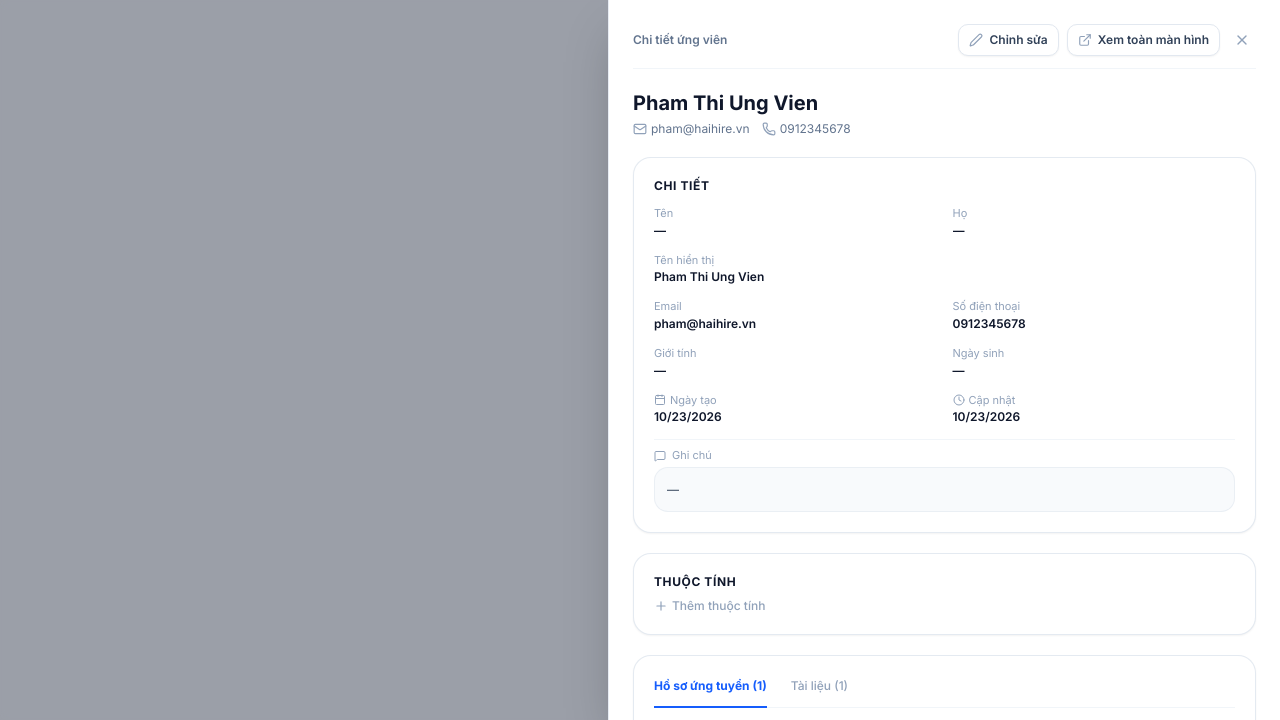
Scenario: CandidateDrawer Component › previews a document and returns back to the document list
What coordinates should you click on to do the following:
click the button "Tài liệu (1)"
I would click on:
 (819, 692)
Its box is top-left (791, 676), bottom-right (848, 708).
(page scrolled)
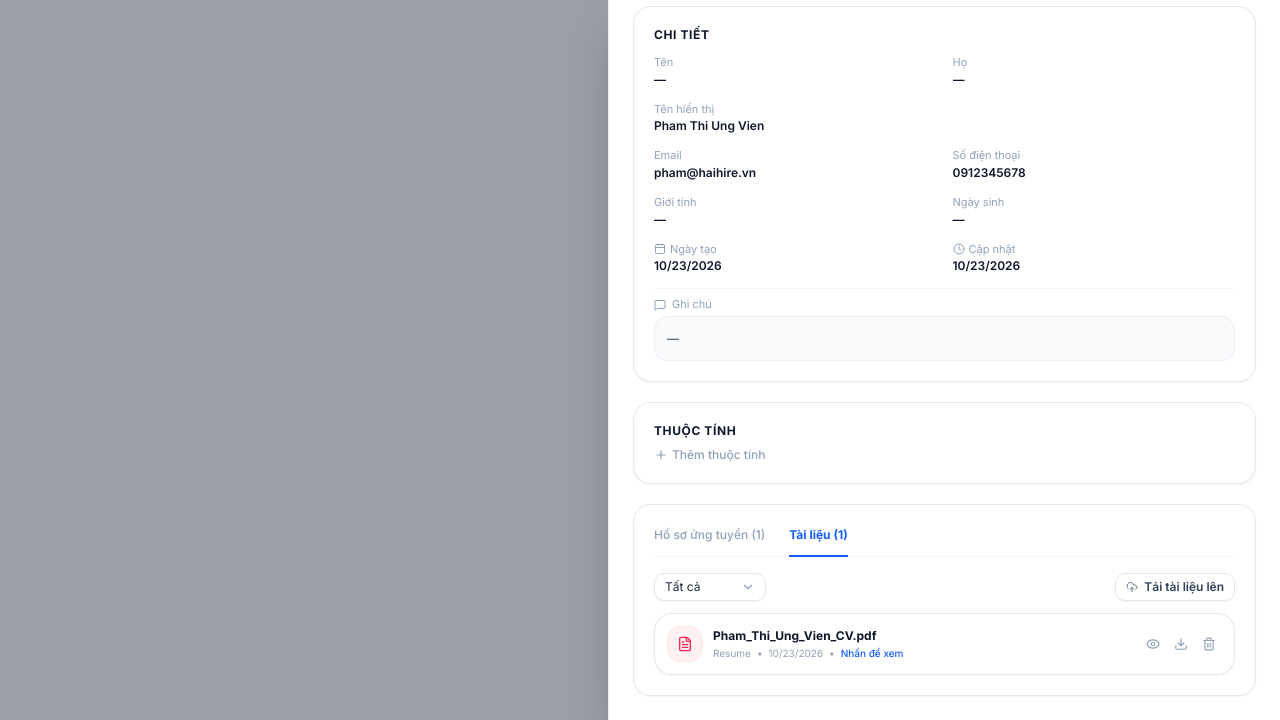
What coordinates should you click on to do the following:
click the button "Nhấn để xem"
I would click on:
 (872, 653)
Its box is top-left (841, 646), bottom-right (904, 661).
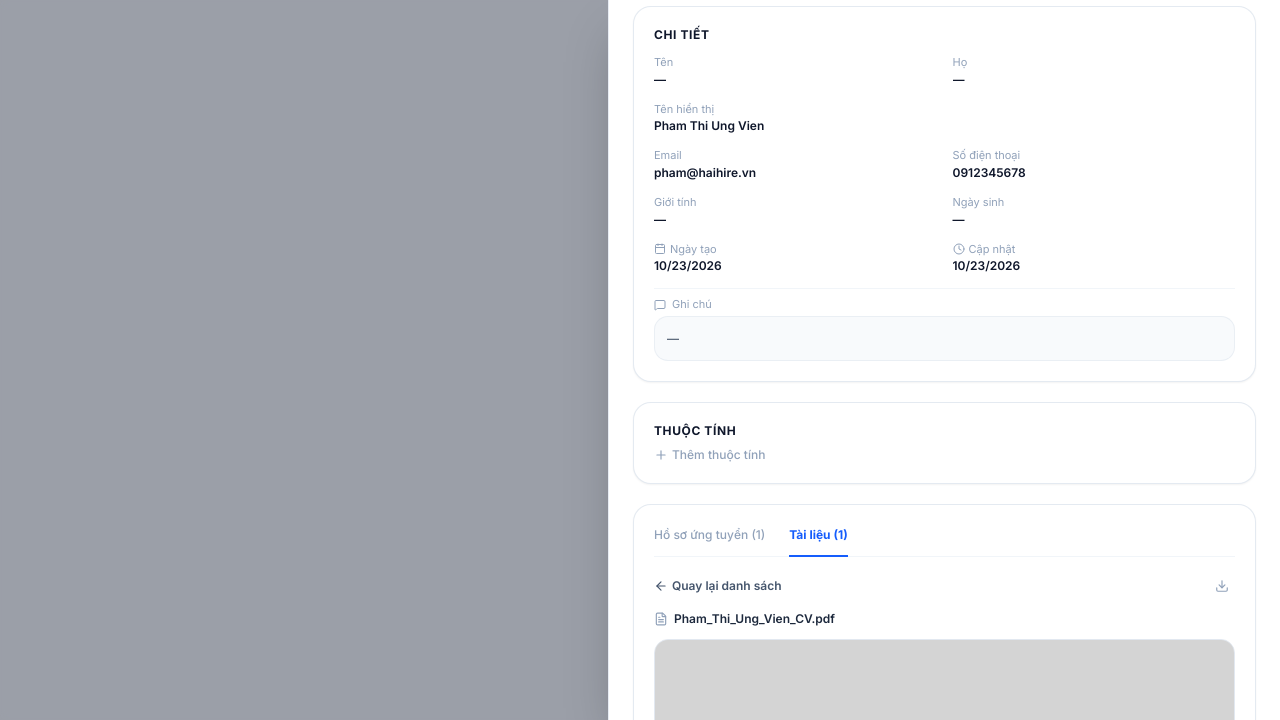
Expected: the text "Quay lại danh sách" is shown, top-left (672, 578), bottom-right (782, 594)
Note: Click back to document list
What coordinates should you click on to do the following:
click the button "Quay lại danh sách"
I would click on:
 (718, 586)
Its box is top-left (654, 578), bottom-right (782, 594).
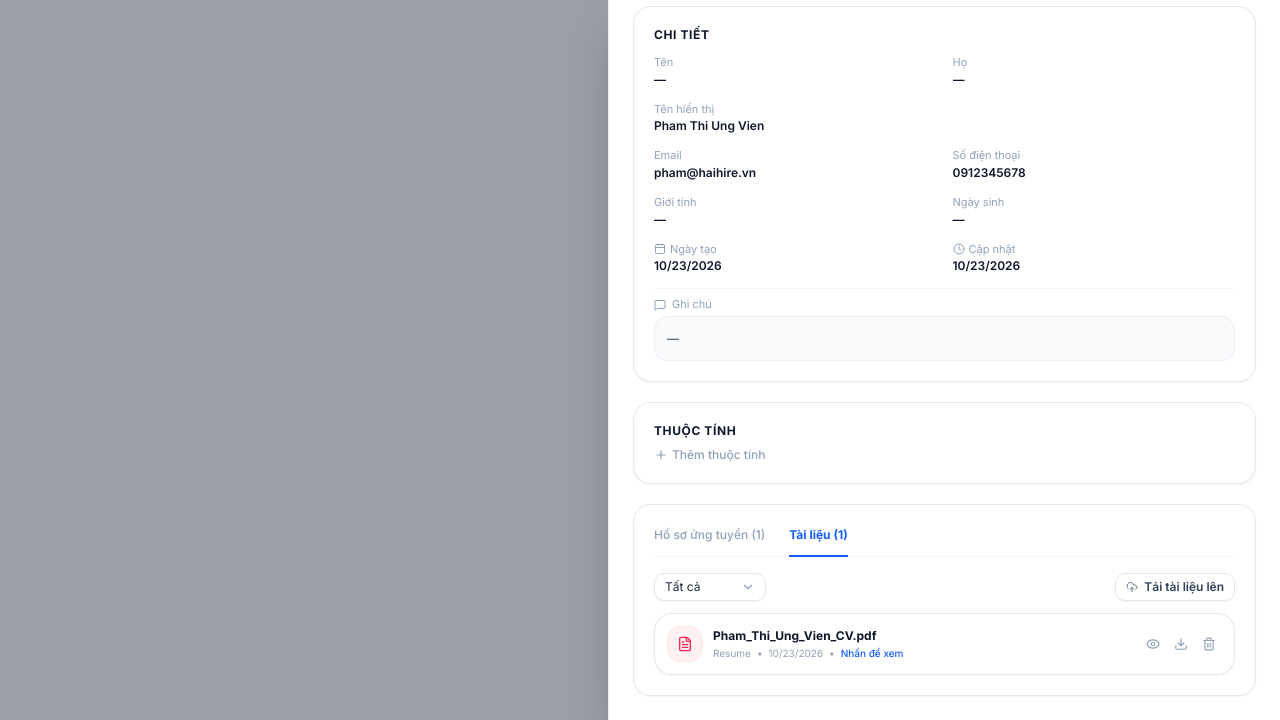
Expected: the text "Tải tài liệu lên" is shown, top-left (1144, 579), bottom-right (1224, 595)
